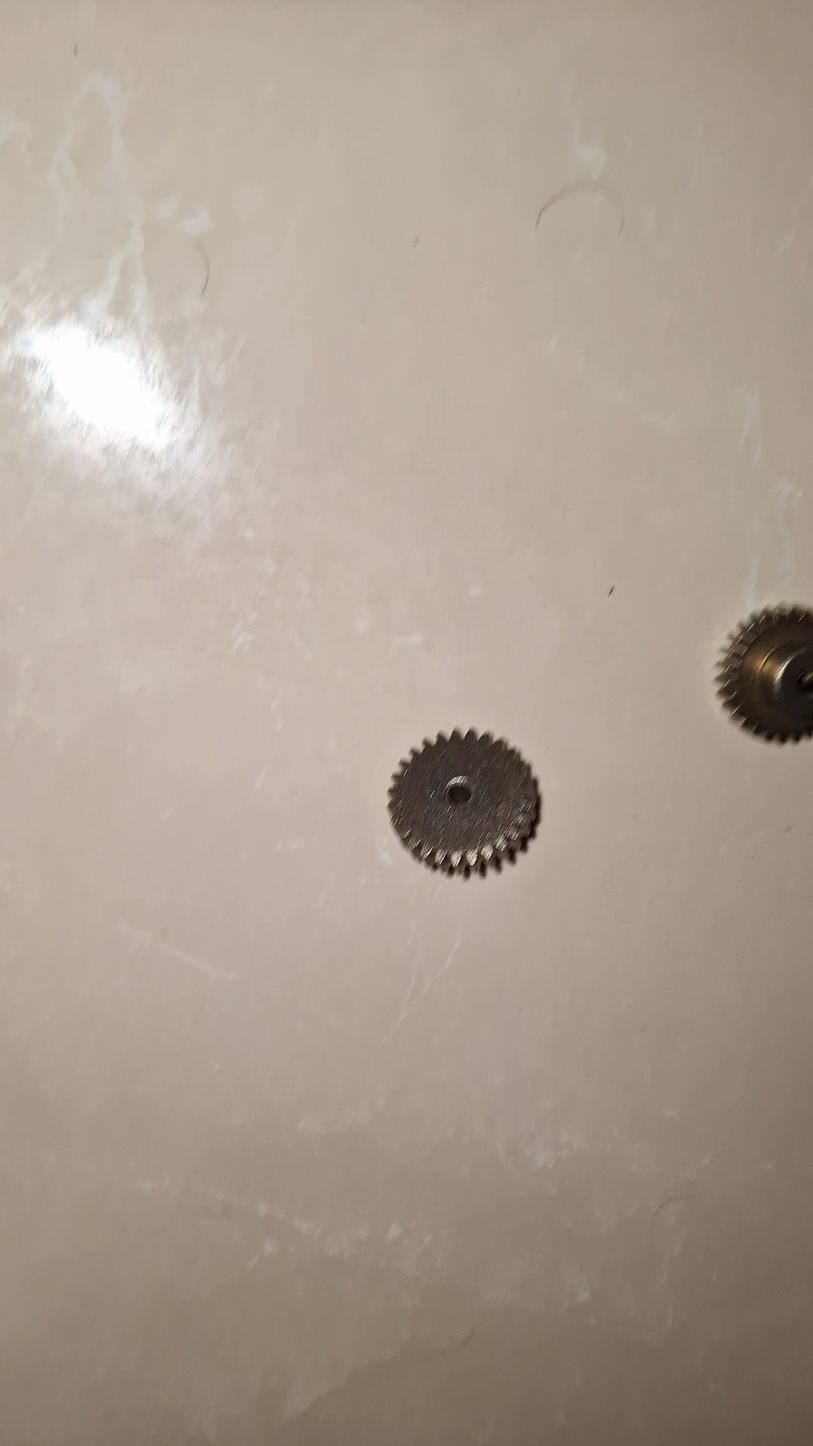spur gear: (388, 730, 539, 872), (718, 606, 813, 743)
